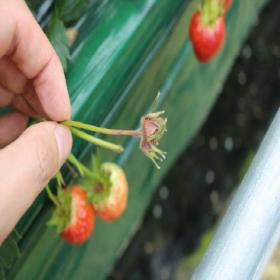Gray Mold: (139, 111, 168, 169)
